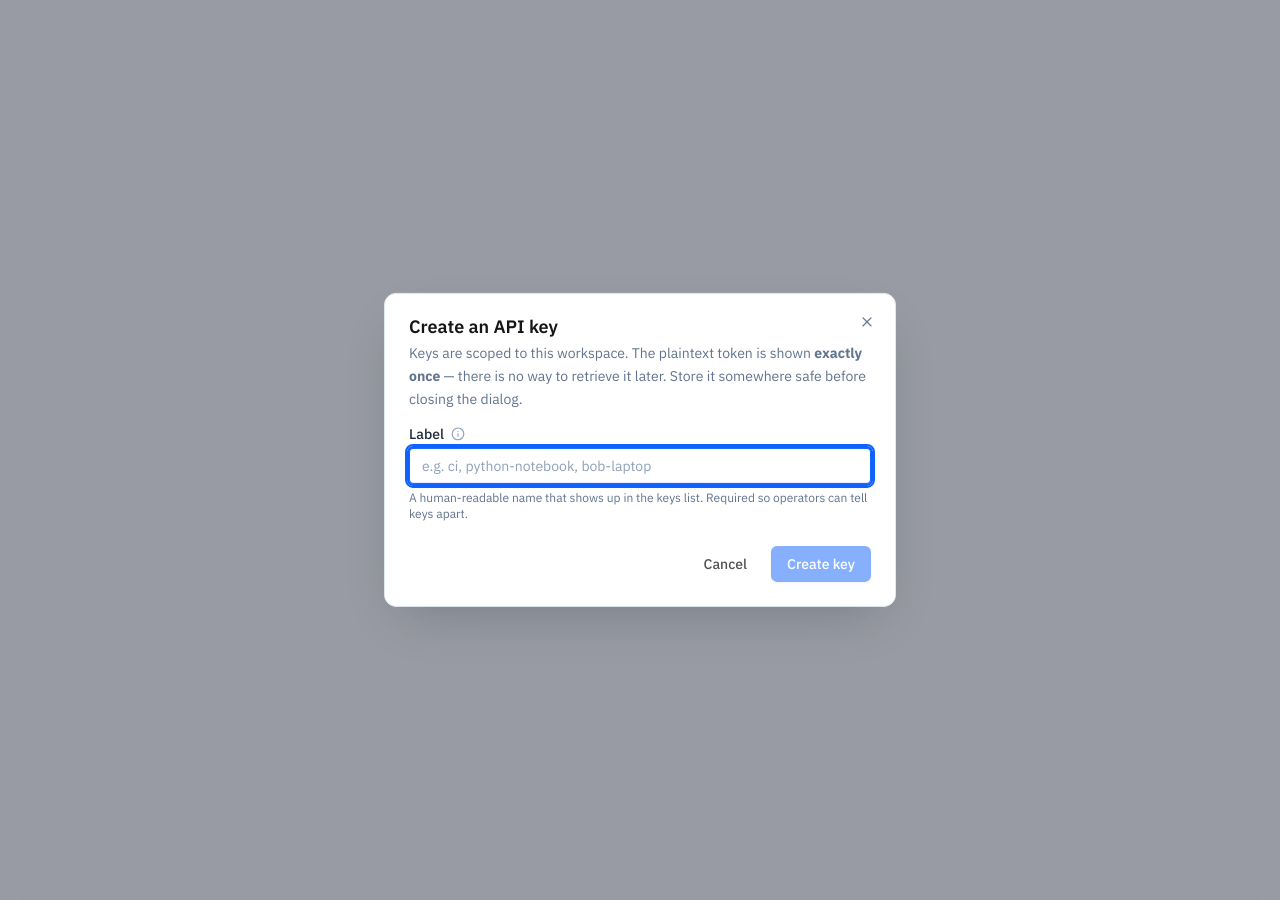
Test case: CreateApiKeyDialog › creates a trimmed API key label and reveals plaintext exactly once
This screenshot has width=1280, height=900.
In the field labelled "Label": (640, 466) [409,448,871,484], type "  ci  "
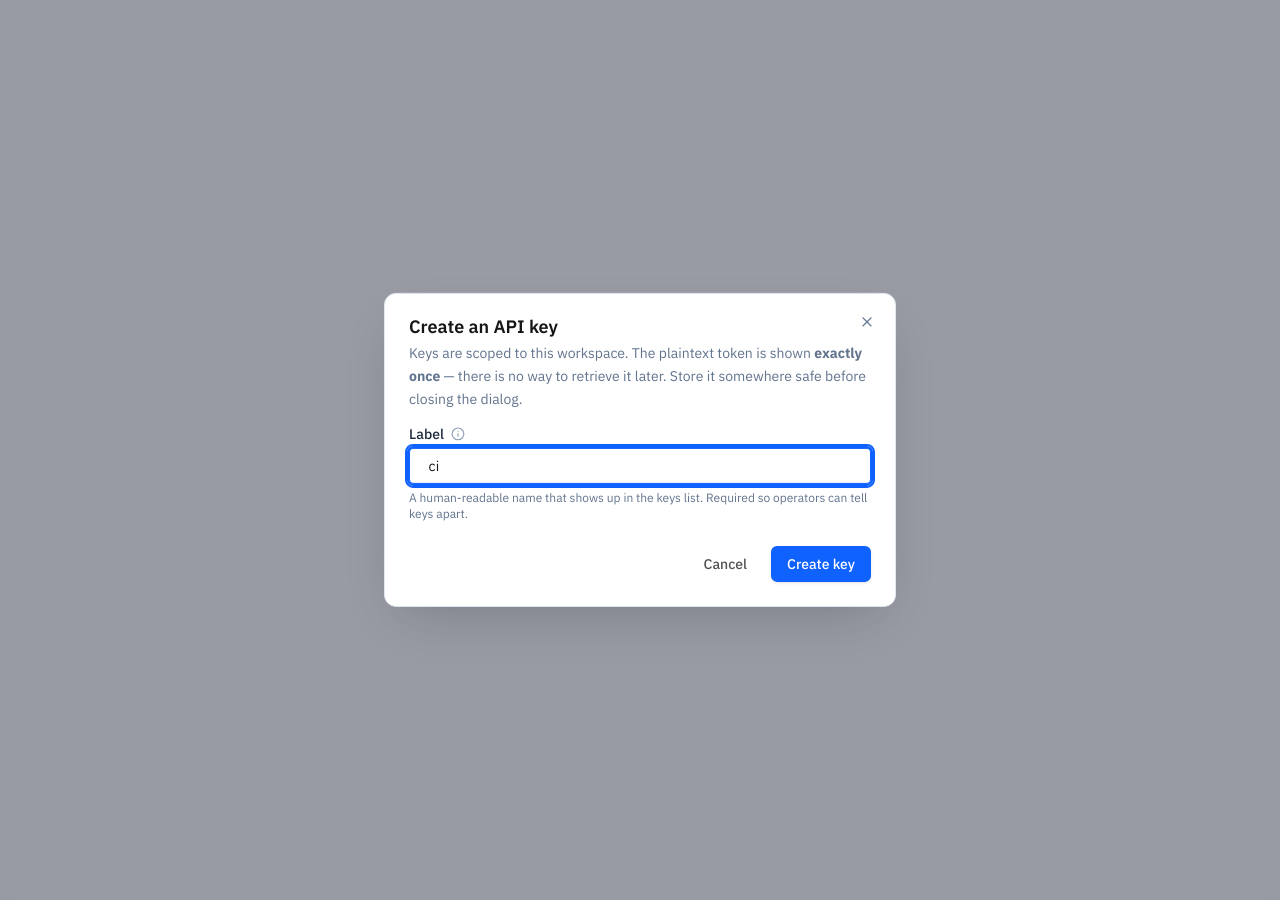
Click the button "Create key": (821, 564) [771,546,871,582]
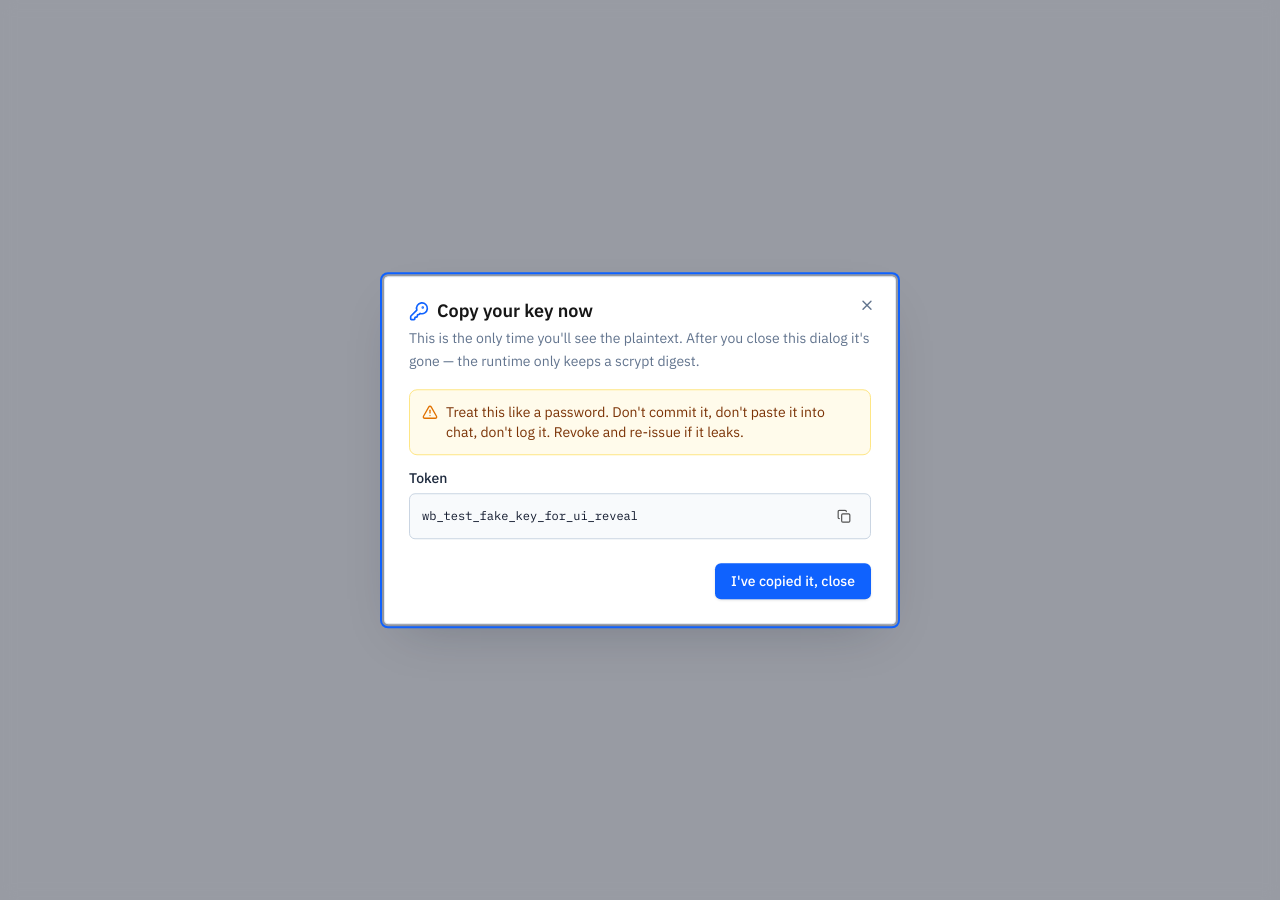
Result: the heading "Copy your key now" is shown at [409,299,593,322]
Result: the text "wb_test_fake_key_for_ui_reveal" is shown at [422,508,638,523]
